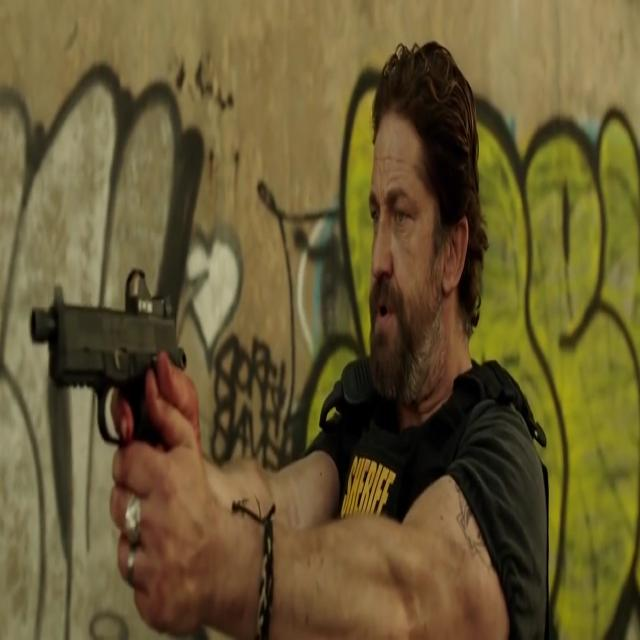Weapon: (24, 272, 210, 500)
